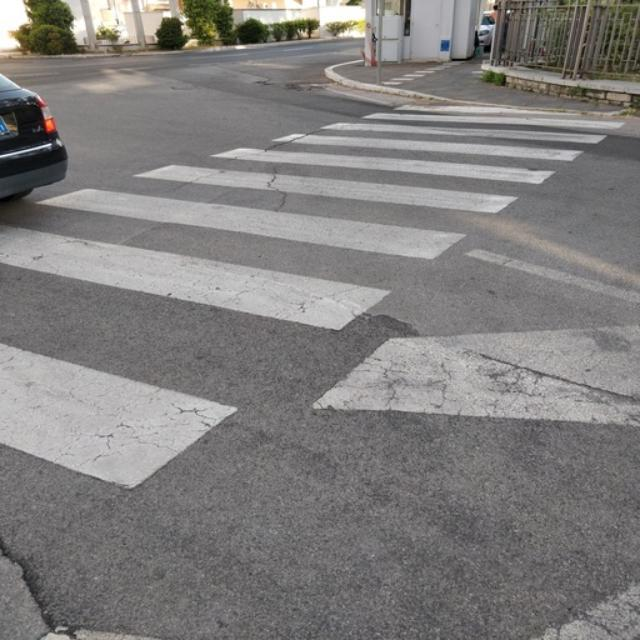sidewalk: (0, 103, 624, 492)
